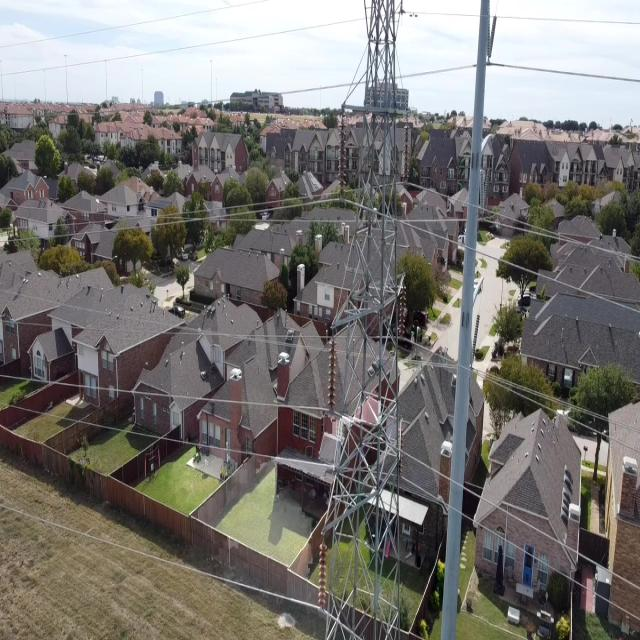杆塔: (318, 0, 406, 640)
正常电缆: (0, 495, 312, 615), (412, 476, 636, 624), (415, 452, 640, 595), (1, 392, 322, 474), (415, 218, 639, 319), (421, 339, 640, 440), (435, 185, 640, 270), (0, 365, 320, 417), (483, 54, 640, 102), (414, 10, 640, 34), (276, 69, 333, 110)
正常绝缘子: (324, 329, 340, 418), (336, 109, 349, 204), (316, 533, 331, 611), (399, 114, 411, 183), (397, 279, 407, 348)
